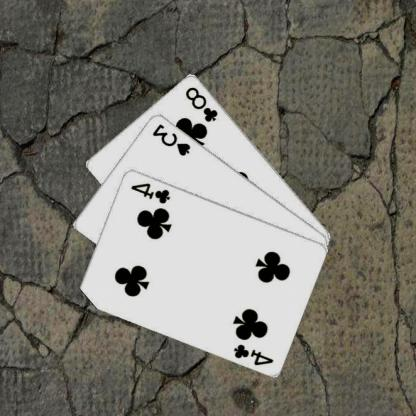3S: (152, 121, 194, 157)
4C: (232, 340, 276, 366), (130, 180, 173, 205)
8C: (184, 84, 221, 123)
